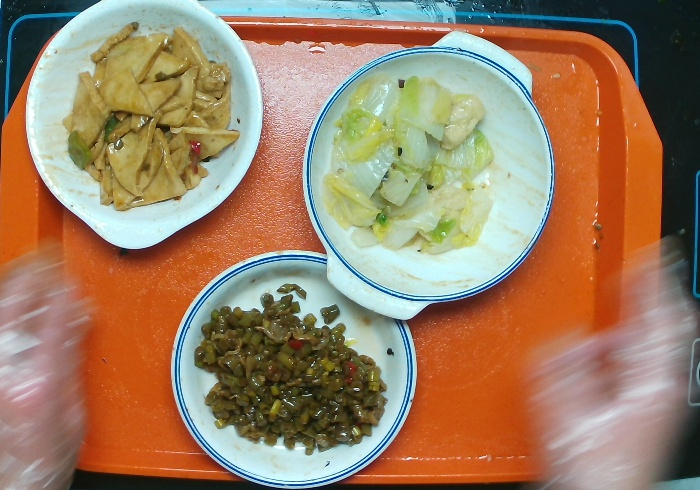HZYJPL-Dai_Er_Bai_Yuan_Wan: (24, 1, 264, 251)
HZYJPL-Lan_Bian_Dai_Er_Wan: (300, 29, 556, 321)
HZYJPL-Lan_Bian_Yuan_Die: (168, 247, 419, 490)
